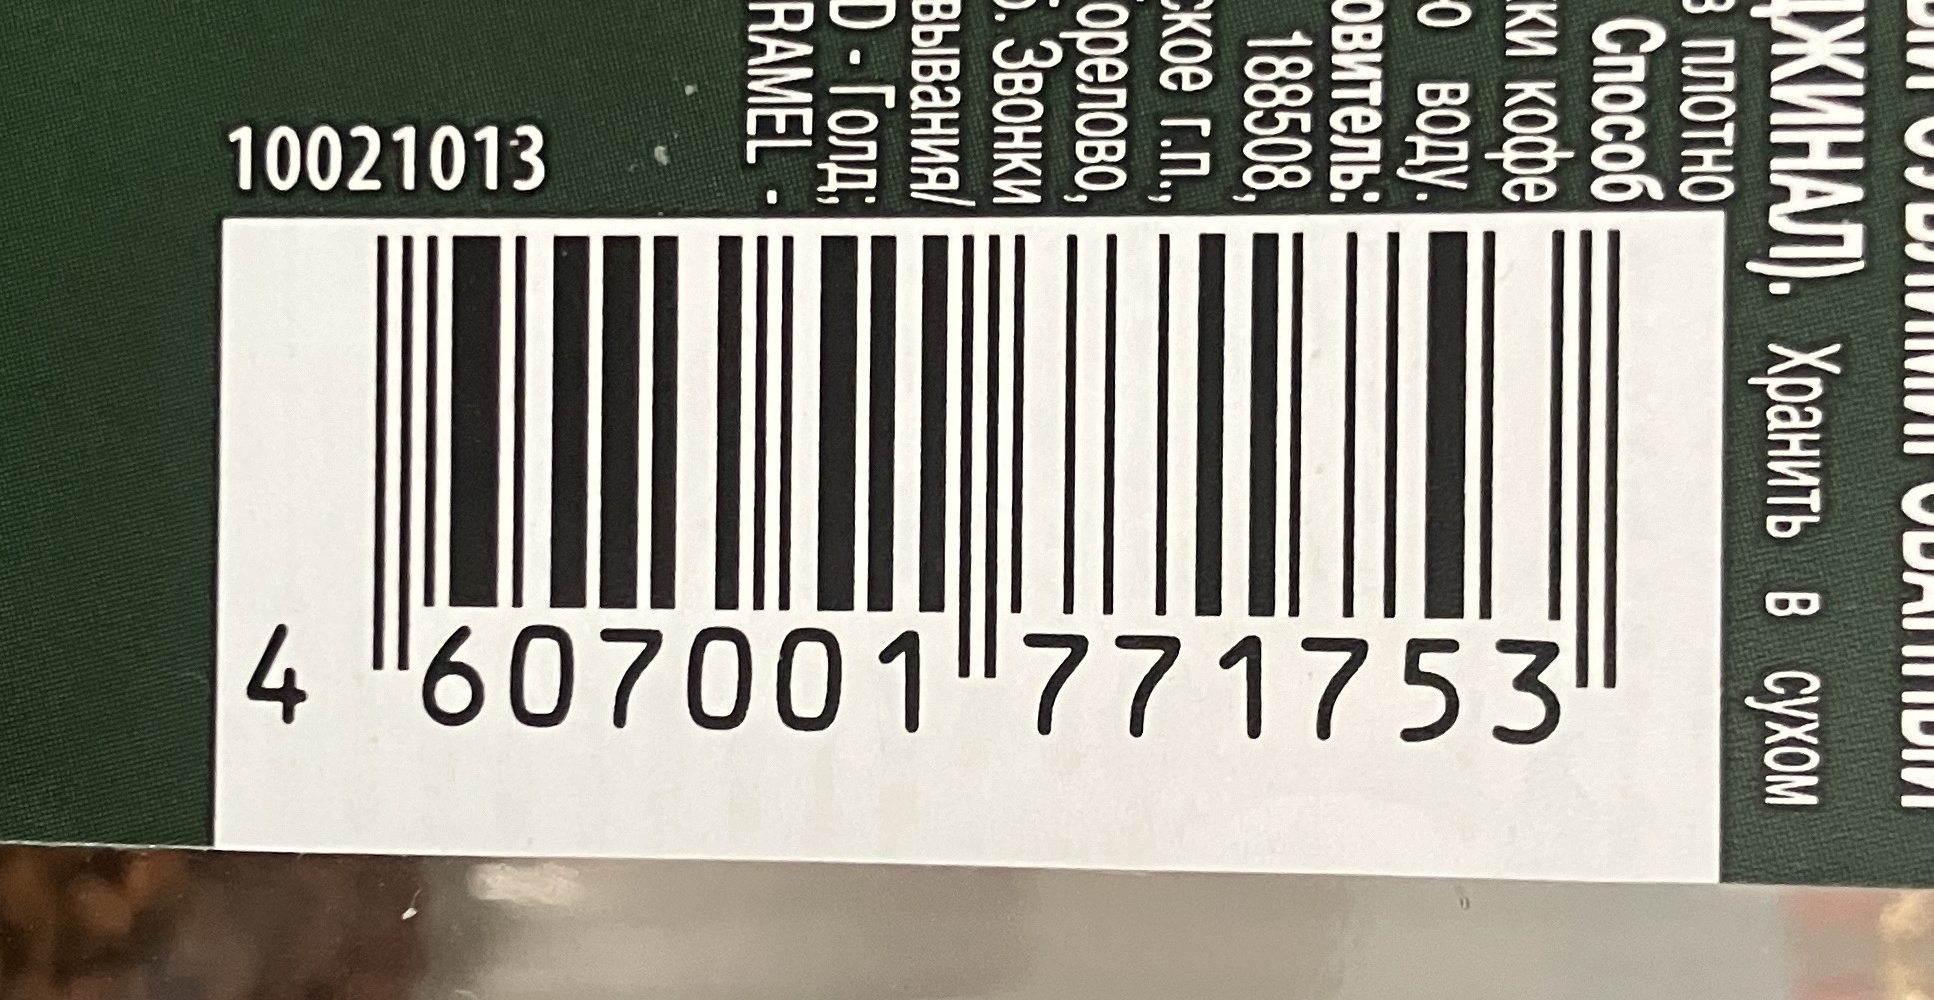1d: (374, 230, 1619, 687)
